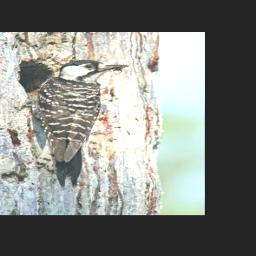Woodpecker: (12, 59, 131, 191)
